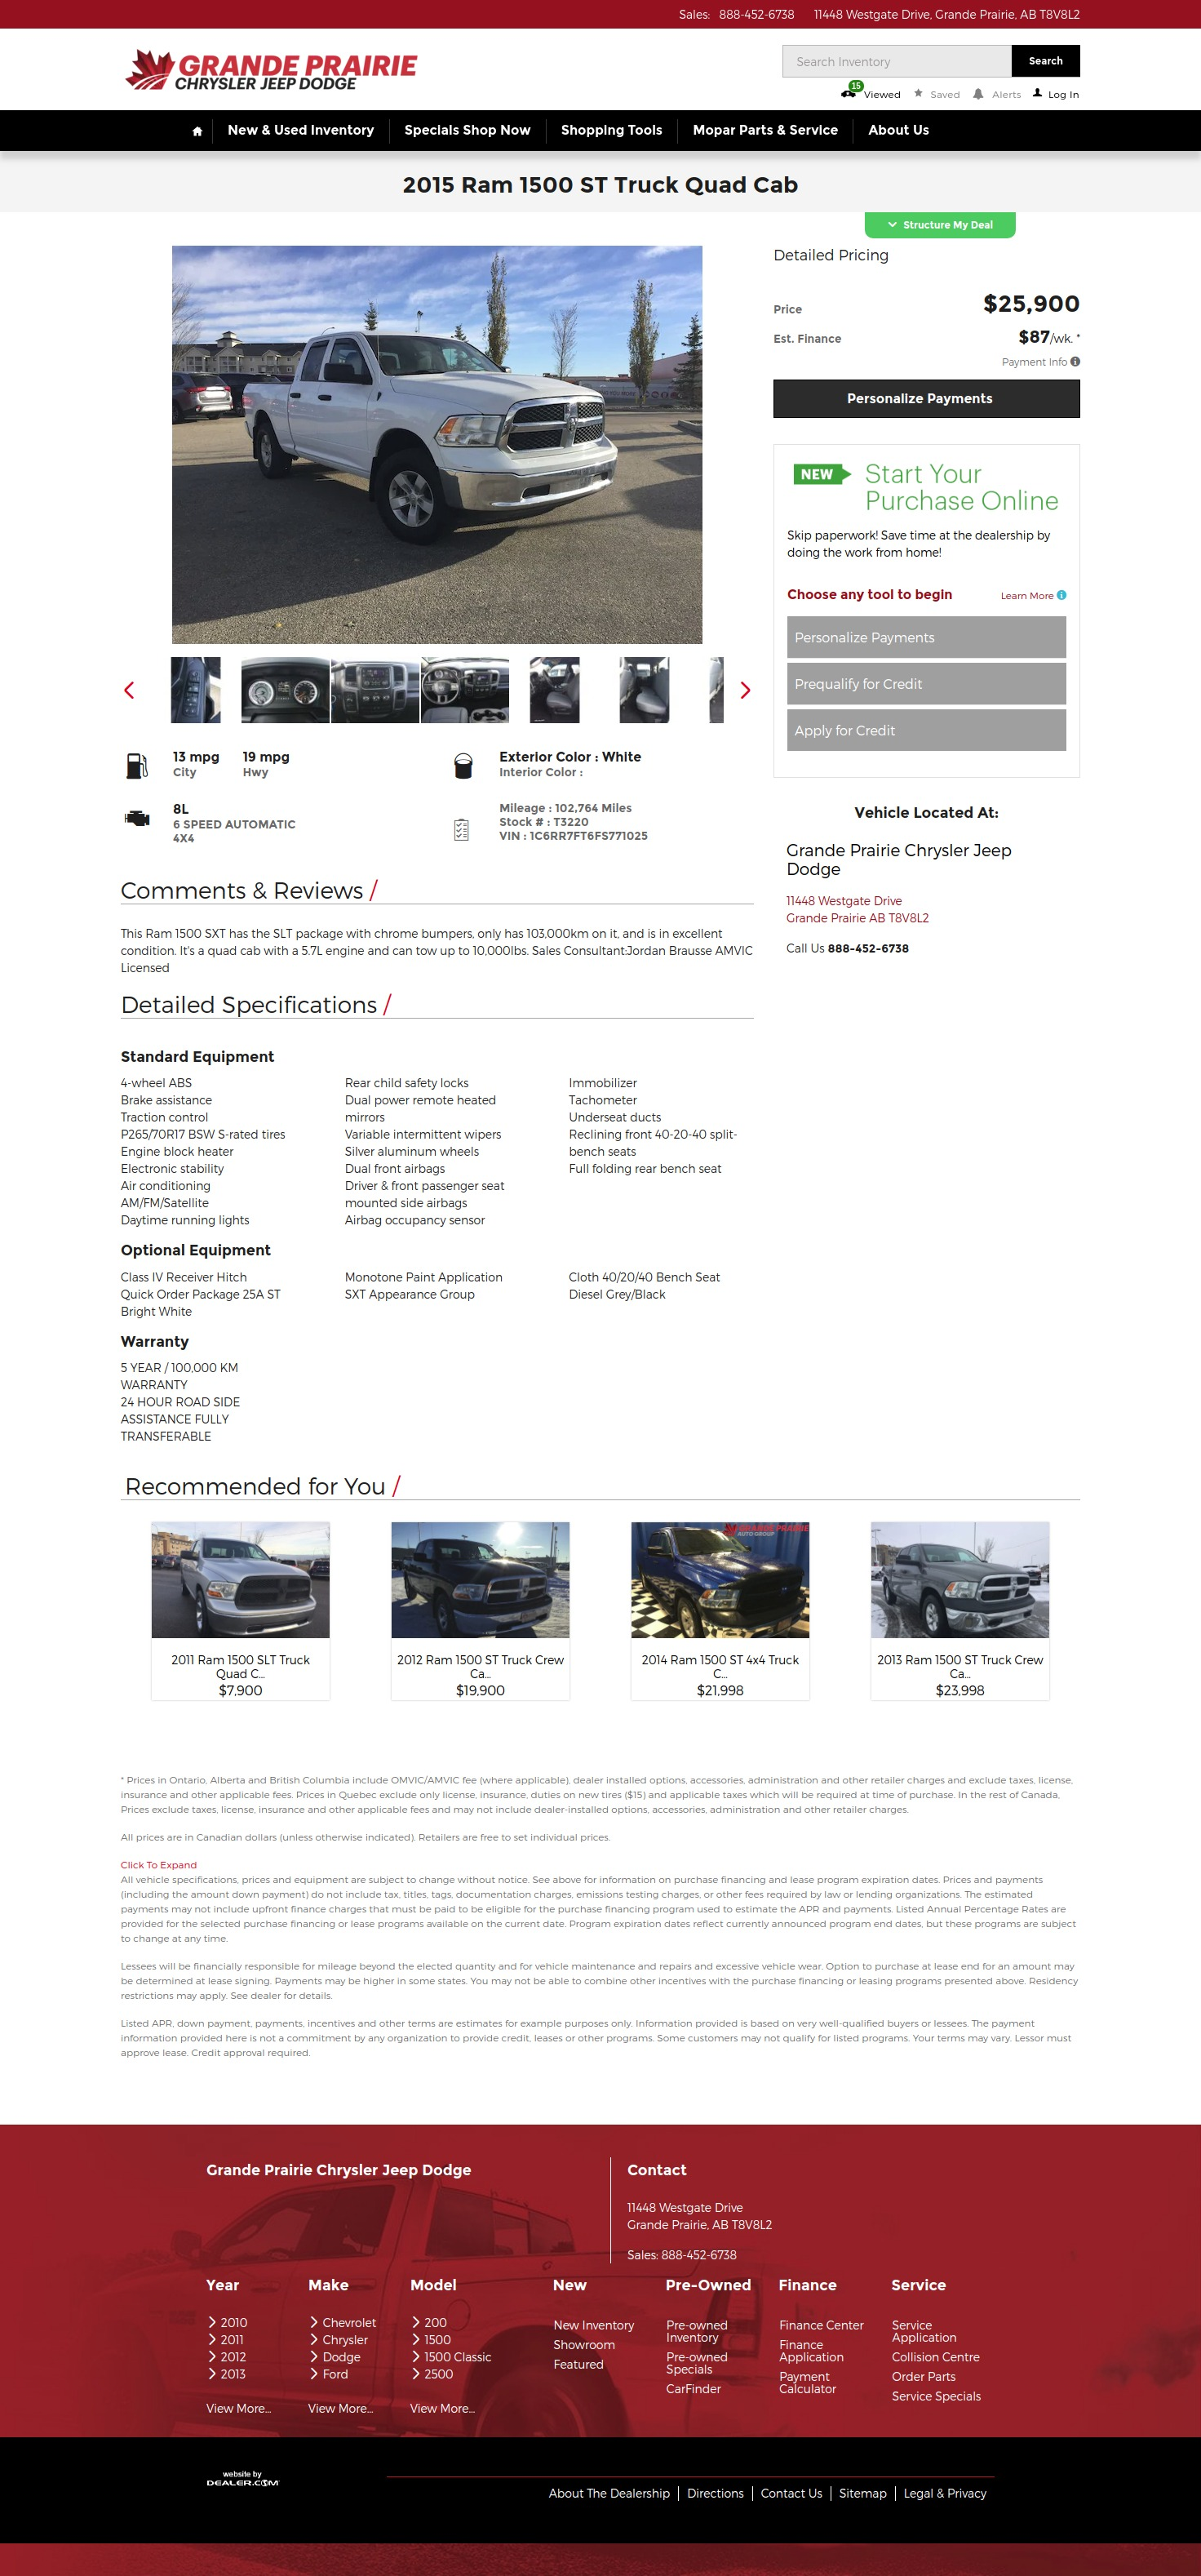car: (741, 682, 751, 700)
